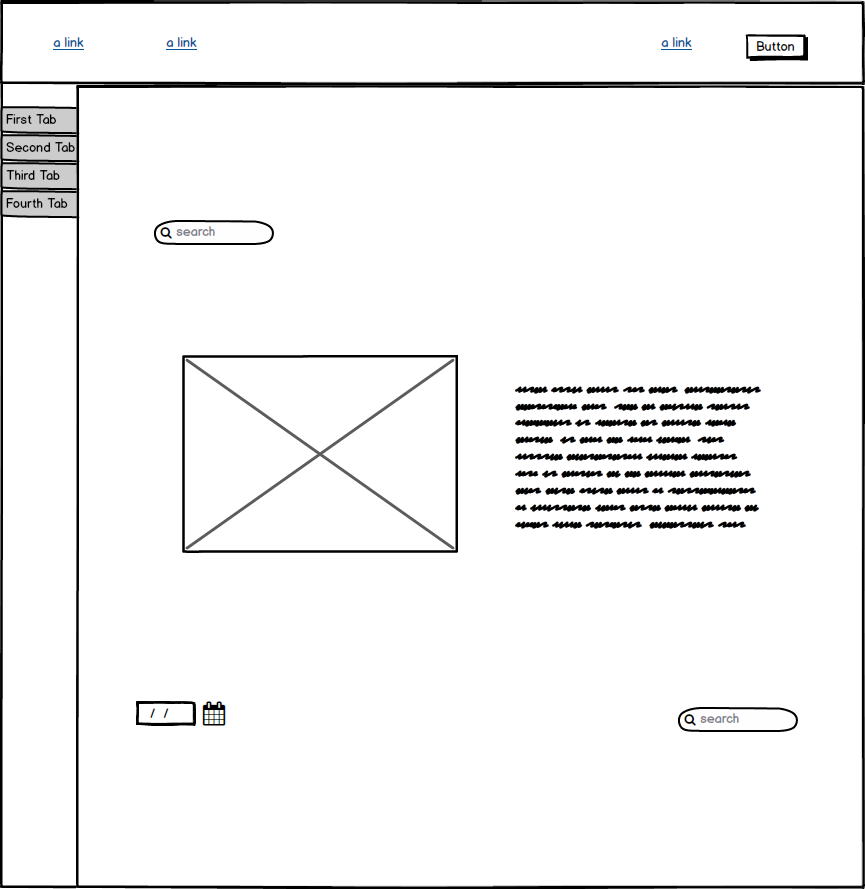button: (743, 29, 813, 69)
date_picker: (126, 696, 237, 731)
image: (178, 347, 466, 559)
navlink: (155, 28, 216, 62), (41, 28, 93, 58), (653, 28, 702, 59)
p: (513, 375, 771, 536)
search: (671, 697, 803, 739), (145, 216, 283, 255)
sidebar: (5, 100, 88, 223)
